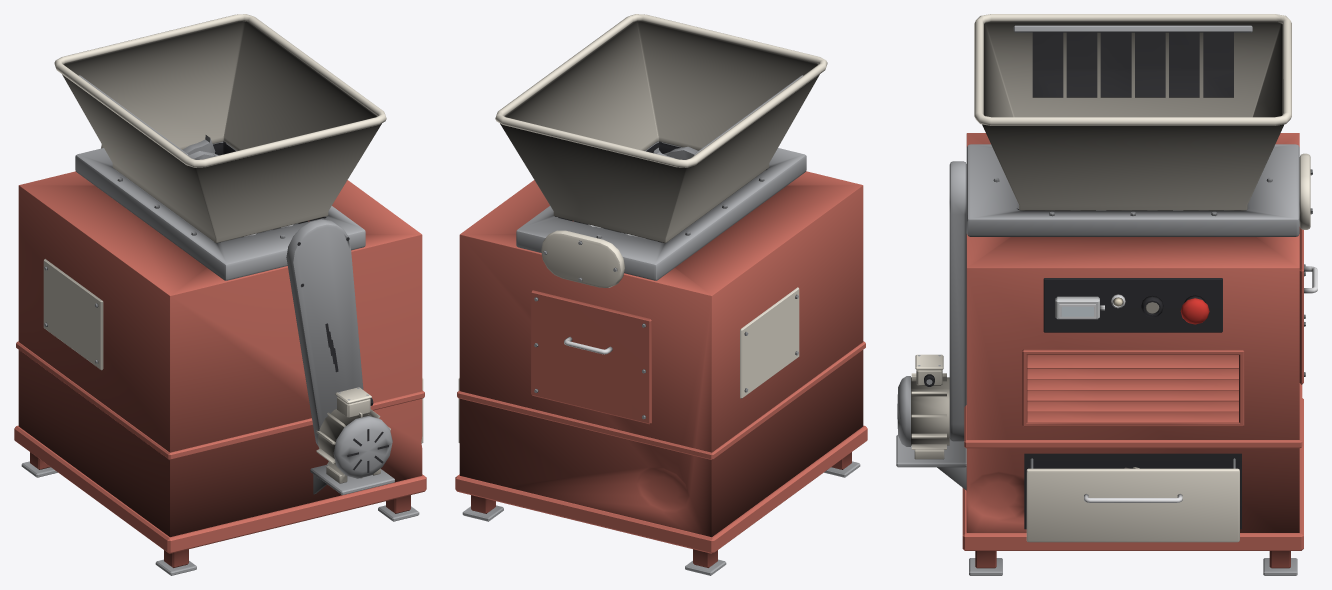
The model's file is recycler.glb.
The picture shows the model from 3 angles, left to right: view 1: azimuth 30°, elevation 25°; view 2: azimuth 150°, elevation 25°; view 3: azimuth 270°, elevation 25°; orthographic projection. The views are drawn at different scales.
Parts seen in each view (by area): view 1: PART, ROTOR_B; view 2: PART; view 3: PART.
Boxes of the visible parts, box(x1,y1,x2,y2) form: PART: box(14, 14, 426, 575); ROTOR_B: box(182, 135, 298, 231); PART: box(455, 14, 867, 575); PART: box(896, 14, 1317, 575).
Bounding box in the file's own units: 0.8786 × 1.15 × 0.987.
